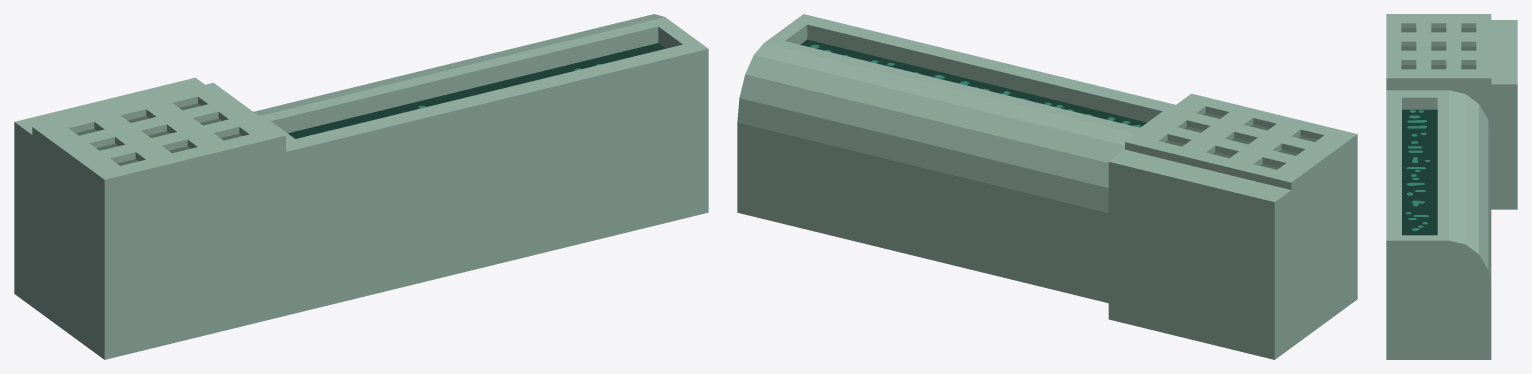
Rendered from Admin-table3.glb.
3 views of the same model, side by side, from view 1: azimuth 30°, elevation 25°; view 2: azimuth 150°, elevation 25°; view 3: azimuth 270°, elevation 25° (orthographic). The views are drawn at different scales.
Visible parts, largest first — view 1: Cube.002; view 2: Cube.002; view 3: Cube.002.
Boxes of the visible parts, left/top/right/bottom form: Cube.002: left=14, top=14, right=708, bottom=359; Cube.002: left=737, top=14, right=1357, bottom=359; Cube.002: left=1386, top=14, right=1517, bottom=359.
Bounding box in the file's own units: 3.86 × 1.1 × 1.
Materials: 1 (1 with a texture image).
